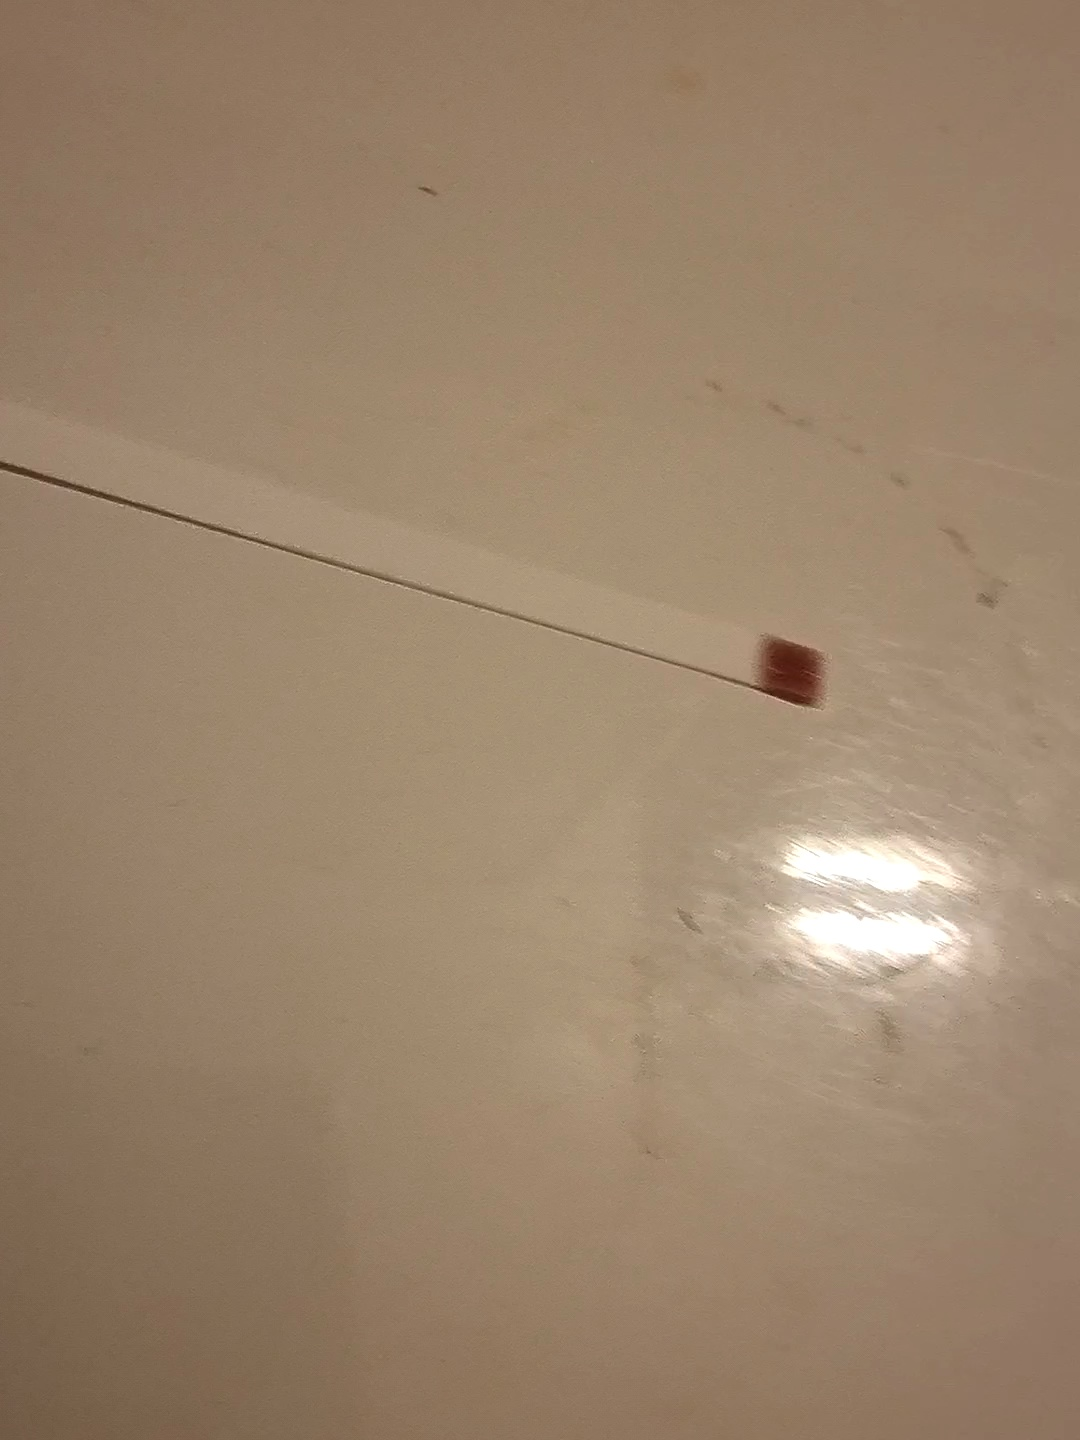keto-tip: (749, 627, 828, 717)
